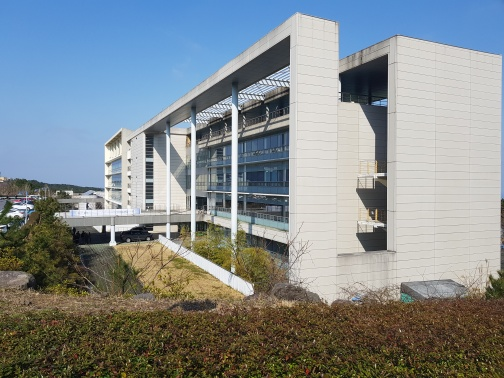Engineering College Building 4: (102, 55, 500, 281), (344, 49, 494, 286), (205, 69, 324, 276), (119, 125, 189, 216)
